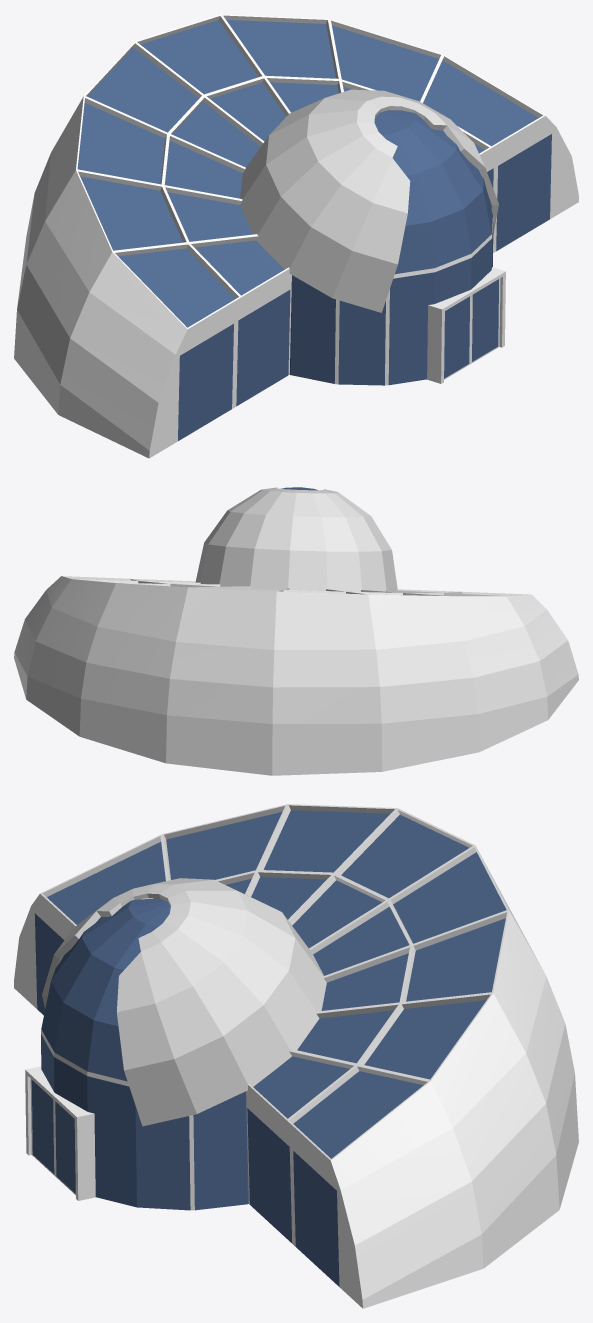
The model's file is BilimMerkezi_BlockOut.glb.
The picture shows the model from 3 angles, top to bottom: view 1: azimuth 30°, elevation 25°; view 2: azimuth 150°, elevation 25°; view 3: azimuth 270°, elevation 25°; orthographic projection. The views are drawn at different scales.
Visible parts, largest first — view 1: 4F6A94FF.001, FFFFFFFF.002; view 2: FFFFFFFF.002; view 3: FFFFFFFF.002, 4F6A94FF.001.
Part boxes in pixels (box(x1,y1,x2,y2)): 4F6A94FF.001: box(77, 20, 551, 440); FFFFFFFF.002: box(14, 14, 578, 458); FFFFFFFF.002: box(14, 487, 578, 775); FFFFFFFF.002: box(14, 804, 578, 1308); 4F6A94FF.001: box(31, 810, 506, 1286).
Size of the model in its own units: 27.17 by 9.86 by 19.39.
